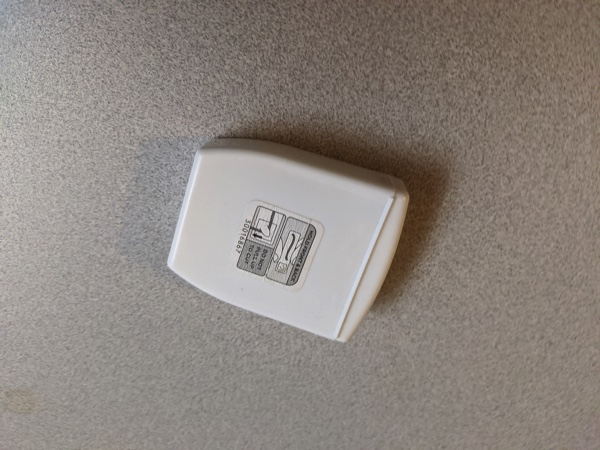plastic: (150, 108, 434, 367)
